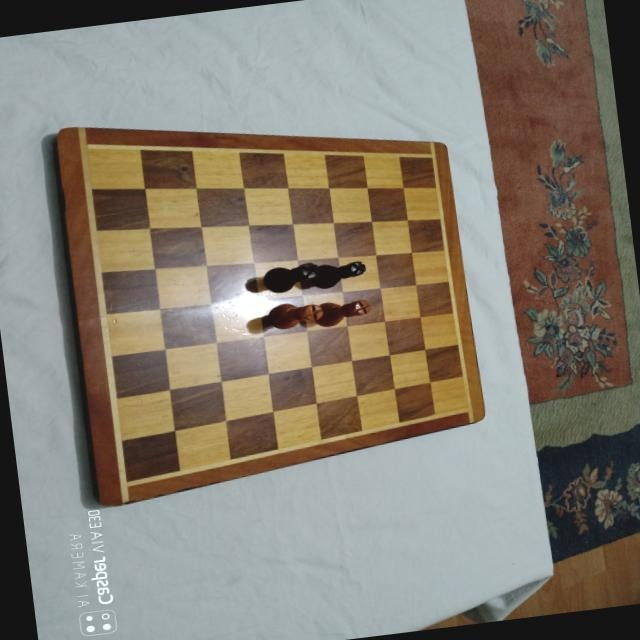black-rook: (260, 261, 321, 295), (309, 258, 366, 289)
white-rook: (311, 295, 372, 328), (266, 298, 324, 331)
